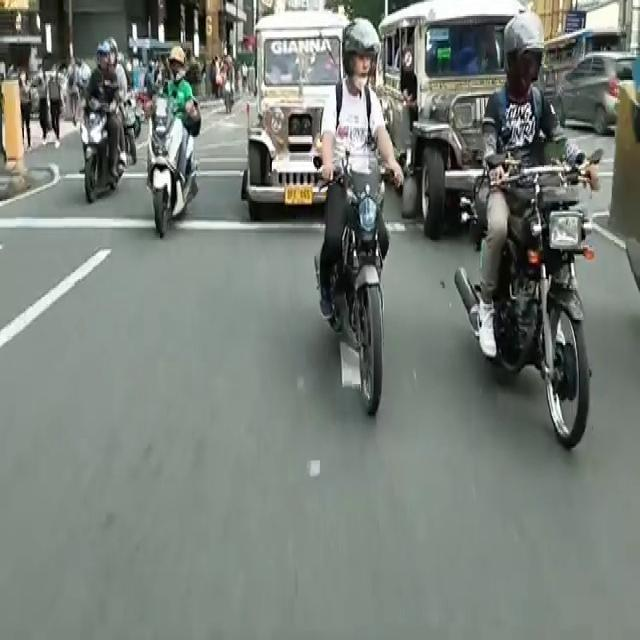jeepney: (386, 13, 514, 247), (245, 18, 348, 225)
motorcycle: (492, 50, 584, 417), (323, 34, 399, 403), (154, 45, 200, 247), (93, 51, 125, 212)
